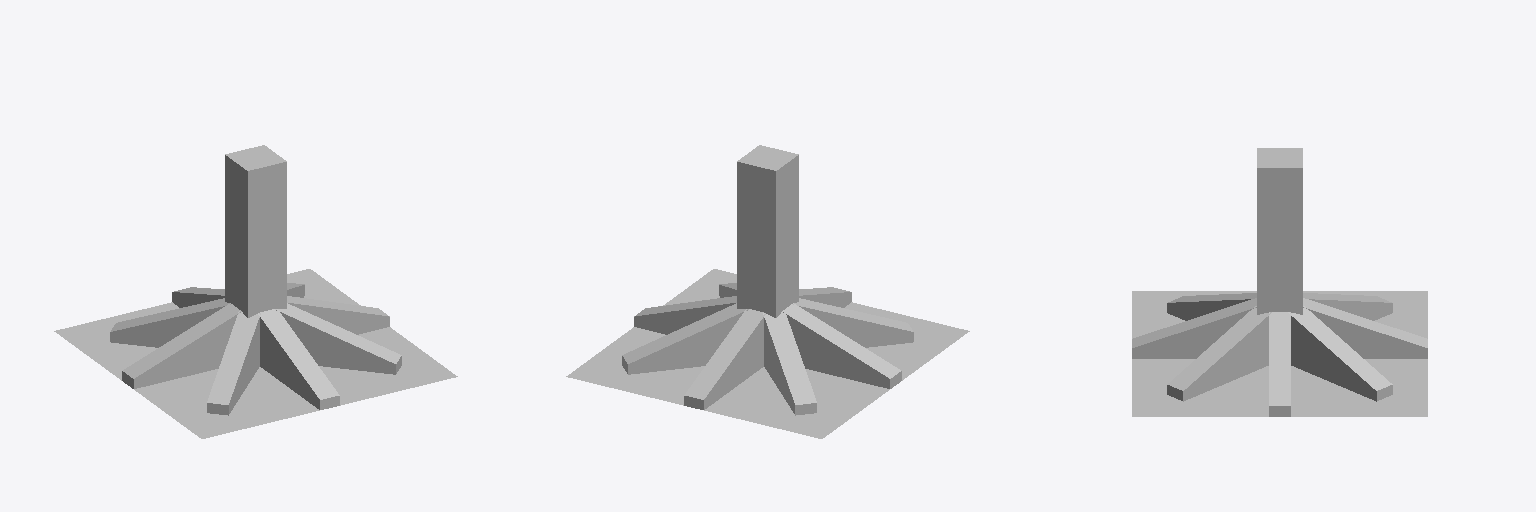
File: squeezer_piston.obj
The picture shows the model from 3 angles: view 1: azimuth 30°, elevation 25°; view 2: azimuth 150°, elevation 25°; view 3: azimuth 270°, elevation 25°; orthographic projection.
Visible parts, largest first — view 1: piston; view 2: piston; view 3: piston.
Boxes of the visible parts, <box> form: piston: <box>54,145,457,438</box>; piston: <box>566,145,969,438</box>; piston: <box>1132,148,1427,416</box>.
Bounding box in the file's own units: 1.62 × 1.19 × 1.62.